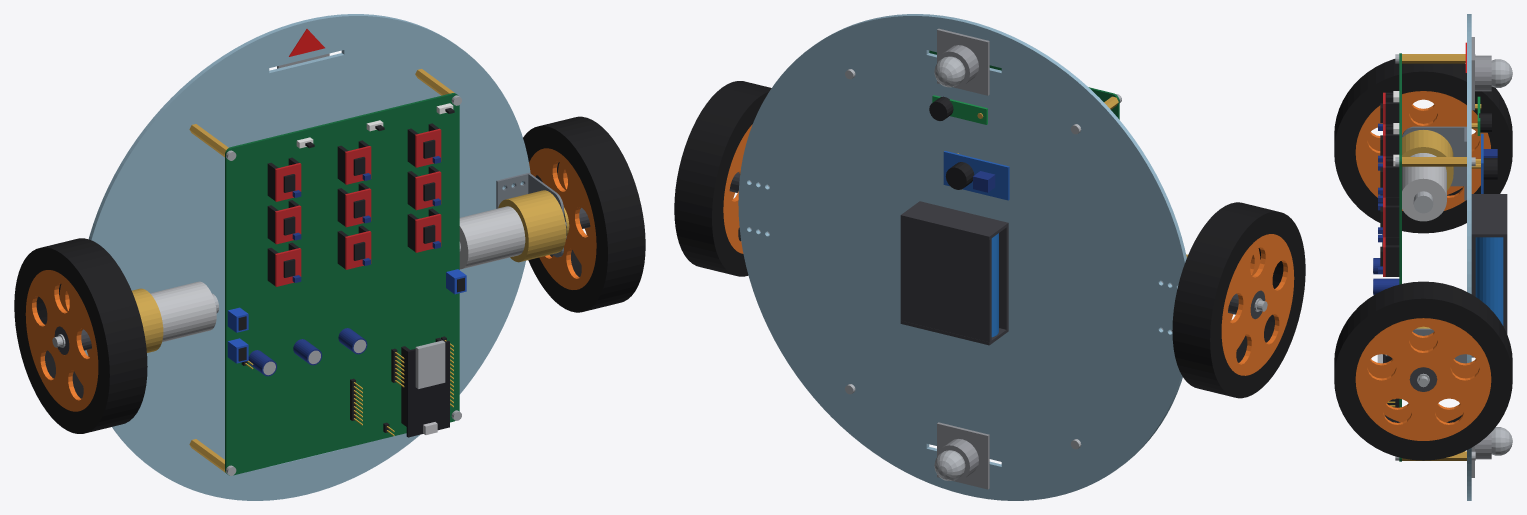
Rendered from rocketboy.obj.
3 renders of one model, left to right at view 1: azimuth 30°, elevation 25°; view 2: azimuth 150°, elevation 25°; view 3: azimuth 270°, elevation 25°, orthographic. The views are drawn at different scales.
Parts seen in each view (by area): view 1: body, wheel_left, wheel_right; view 2: body, wheel_left, wheel_right; view 3: wheel_right, body, wheel_left.
Part boxes in pixels (x1,y1,x2,y2): body: (52,14,569,500); wheel_left: (14,238,147,433); wheel_right: (523,116,645,312); body: (738,14,1267,500); wheel_left: (1172,202,1305,398); wheel_right: (674,81,771,276); wheel_right: (1334,281,1512,460); body: (1373,14,1512,500); wheel_left: (1334,59,1512,233).
Size of the model in its own units: 365 by 300 by 110.
